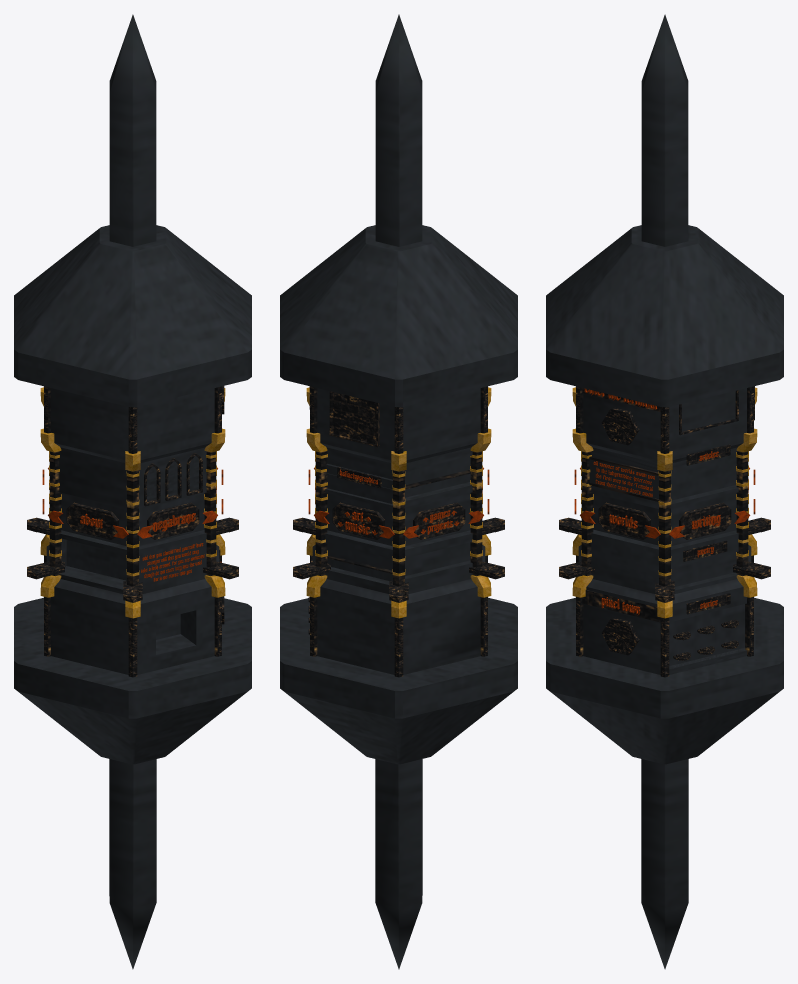
Rendered from HexCoreFallback256.glb.
The picture shows the model from 3 angles, left to right: view 1: azimuth 30°, elevation 25°; view 2: azimuth 150°, elevation 25°; view 3: azimuth 270°, elevation 25°; orthographic projection.
Visible parts, largest first — view 1: HexCoreFallback; view 2: HexCoreFallback; view 3: HexCoreFallback.
Part boxes in pixels (x1=…): HexCoreFallback: x1=14, y1=14, x2=251, y2=969; HexCoreFallback: x1=280, y1=14, x2=517, y2=969; HexCoreFallback: x1=546, y1=14, x2=783, y2=969.
Bounding box in the file's own units: 2.71 × 10.58 × 2.39.
1 material, 1 textured.
